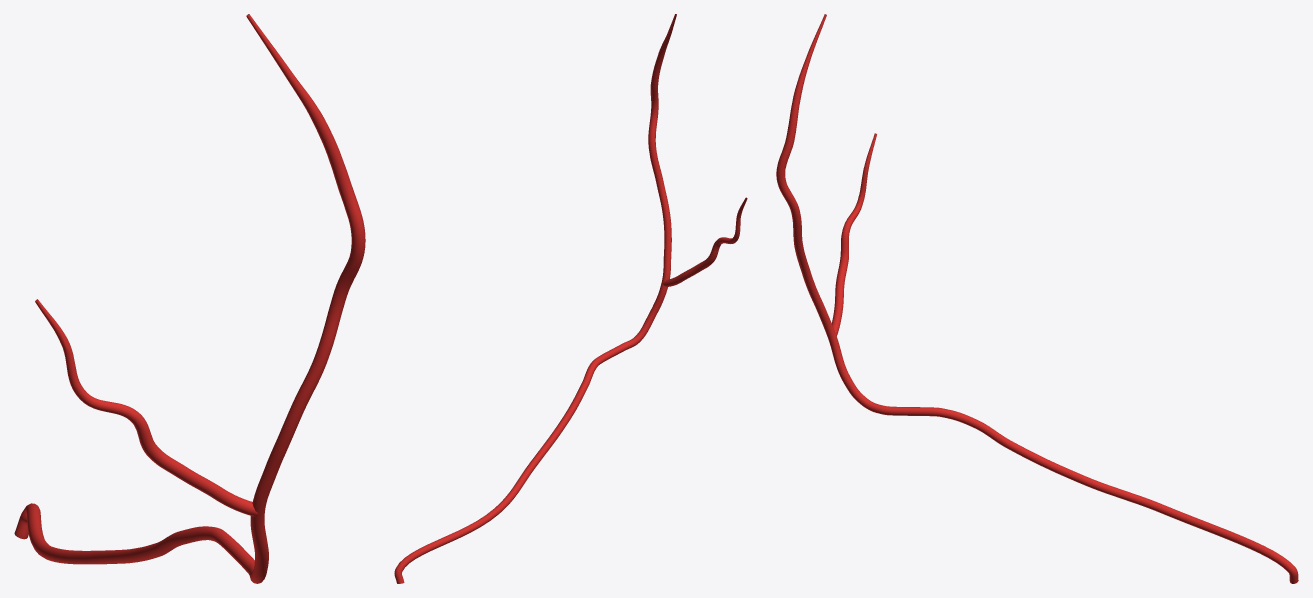
The model's file is circulatorio-supra-orbital-artery-r.glb.
The picture shows the model from 3 angles, left to right: view 1: azimuth 30°, elevation 25°; view 2: azimuth 150°, elevation 25°; view 3: azimuth 270°, elevation 25°; orthographic projection. The views are drawn at different scales.
Parts seen in each view (by area): view 1: Supra-orbital artery.r; view 2: Supra-orbital artery.r; view 3: Supra-orbital artery.r.
Part boxes in pixels (x1,y1,x2,y2): Supra-orbital artery.r: (14, 14, 365, 583); Supra-orbital artery.r: (394, 14, 747, 583); Supra-orbital artery.r: (776, 14, 1298, 583).
Size of the model in its own units: 0.019 by 0.0457 by 0.0413.
